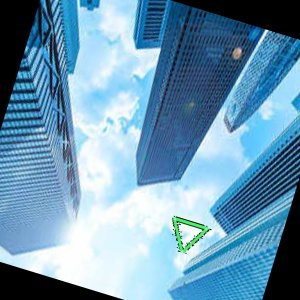triangle: (171, 213, 211, 255)
